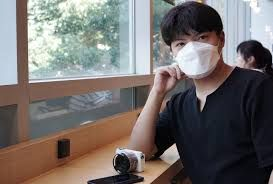with-mask: (164, 14, 232, 79)
